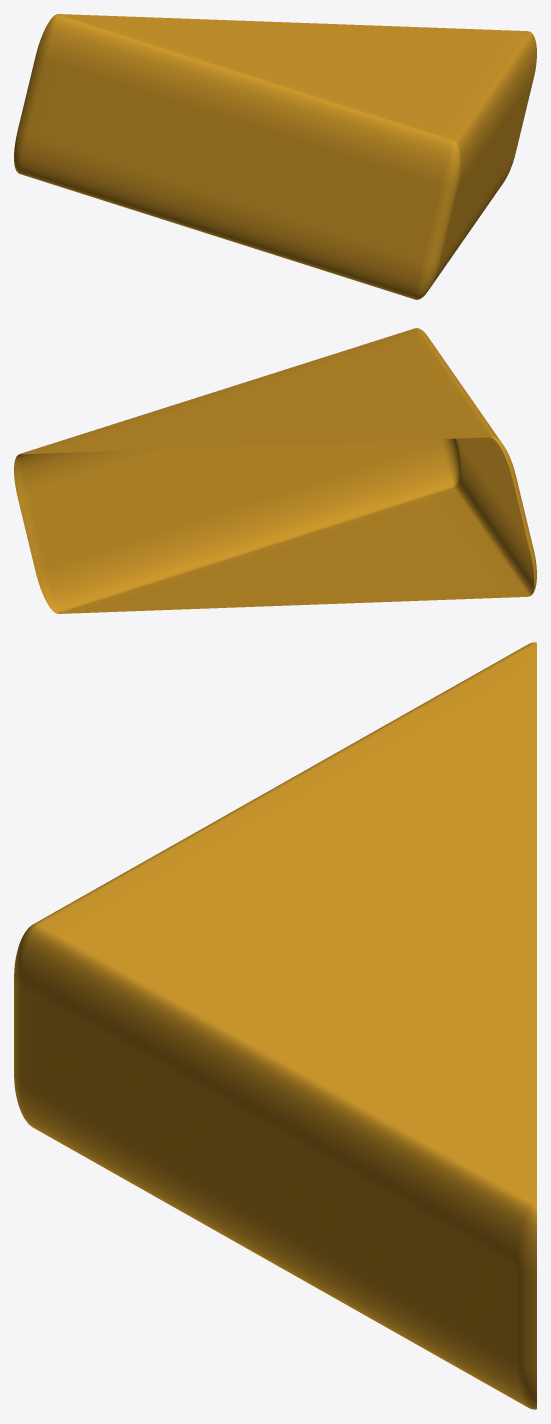
Rendered from Obstacle-triangle.glb.
3 renders of one model, top to bottom at view 1: azimuth 30°, elevation 25°; view 2: azimuth 150°, elevation 25°; view 3: azimuth 270°, elevation 25°, orthographic. The views are drawn at different scales.
Visible parts, largest first — view 1: Cube_3_5_Mat.16_0; view 2: Cube_3_5_Mat.16_0; view 3: Cube_3_5_Mat.16_0.
Boxes of the visible parts, left/top/right/bottom form: Cube_3_5_Mat.16_0: left=14, top=14, right=536, bottom=299; Cube_3_5_Mat.16_0: left=14, top=328, right=536, bottom=613; Cube_3_5_Mat.16_0: left=14, top=642, right=536, bottom=1409.
Size of the model in its own units: 0.836 by 0.4335 by 0.4699.
